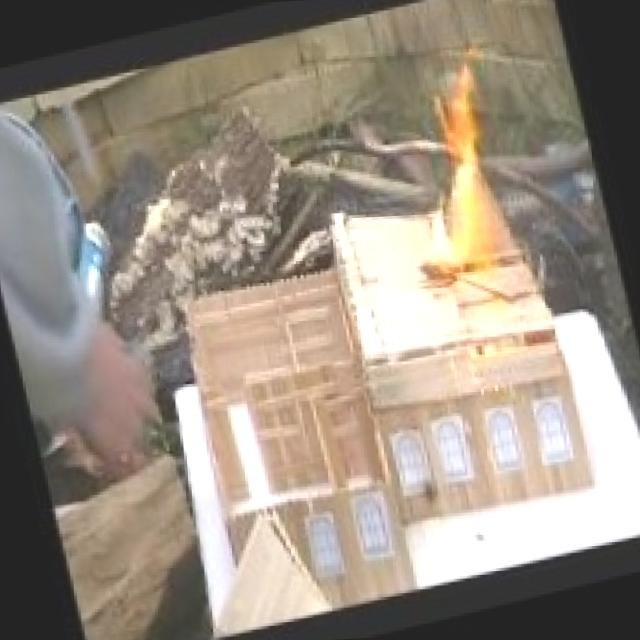fire: (408, 79, 535, 282)
